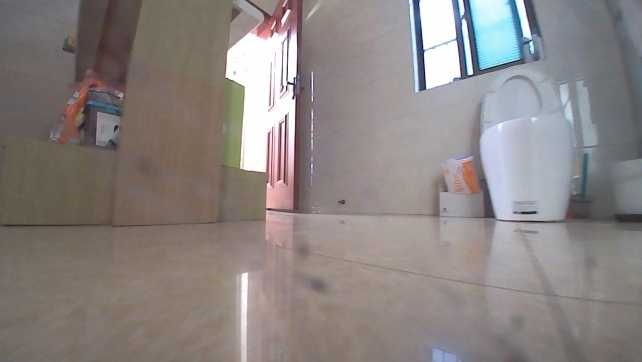toilet: (476, 64, 580, 224)
